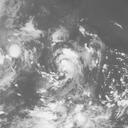cyclone: (54, 52, 83, 83)
